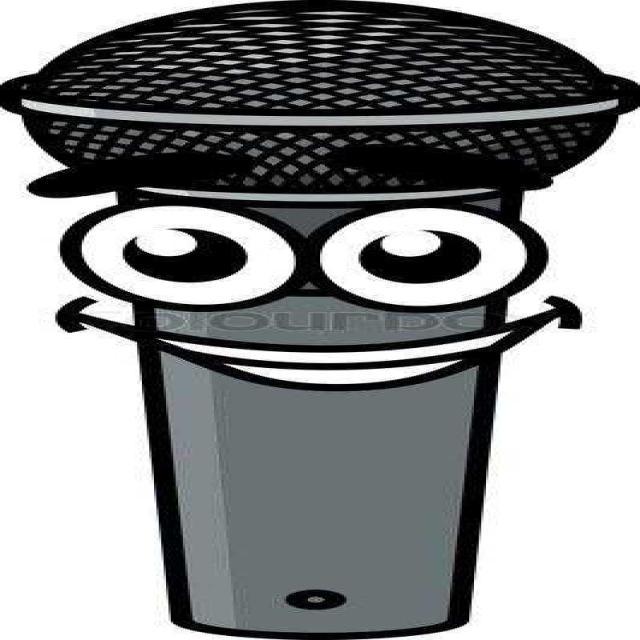microphone: (12, 5, 638, 630)
